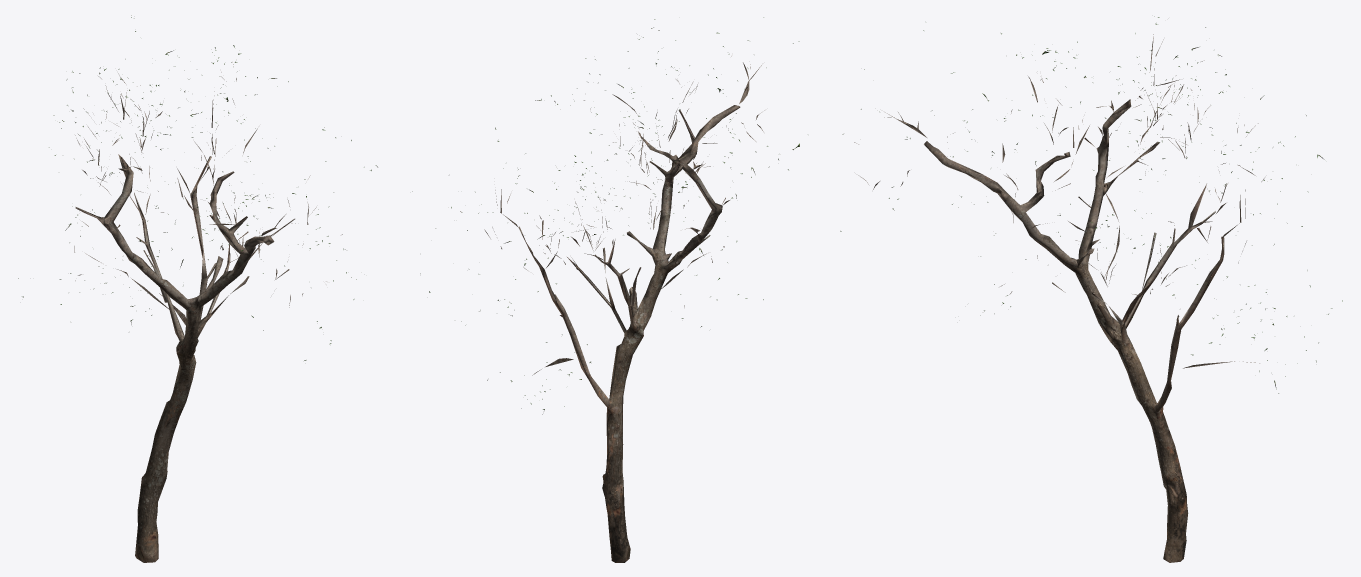
File: tree-far.gltf
The picture shows the model from 3 angles, left to right: view 1: azimuth 30°, elevation 25°; view 2: azimuth 150°, elevation 25°; view 3: azimuth 270°, elevation 25°; orthographic projection. The views are drawn at different scales.
Parts seen in each view (by area): view 1: tree_small_02_LOD0; view 2: tree_small_02_LOD0; view 3: tree_small_02_LOD0.
Boxes of the visible parts, x1,y1,x2,y2 form: tree_small_02_LOD0: (18,15,377,562); tree_small_02_LOD0: (412,17,799,562); tree_small_02_LOD0: (840,16,1342,562).
Size of the model in its own units: 2.85 by 4.53 by 3.9.
3 materials, 3 textured.
